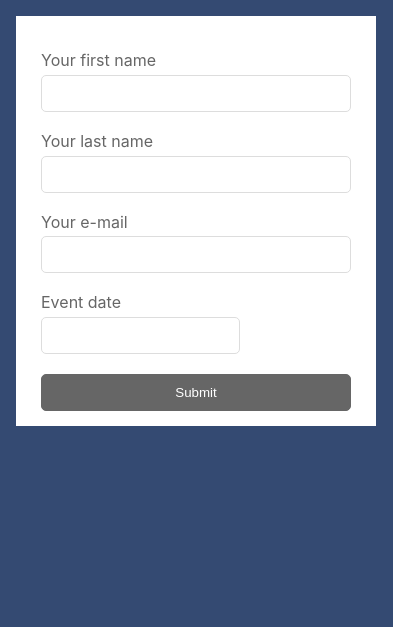
Event form end 2 end tests › All data entered - button enabled
Step 1. Type "test first name" into the field with id "firstName" → (196, 94), box [41,75,351,112]
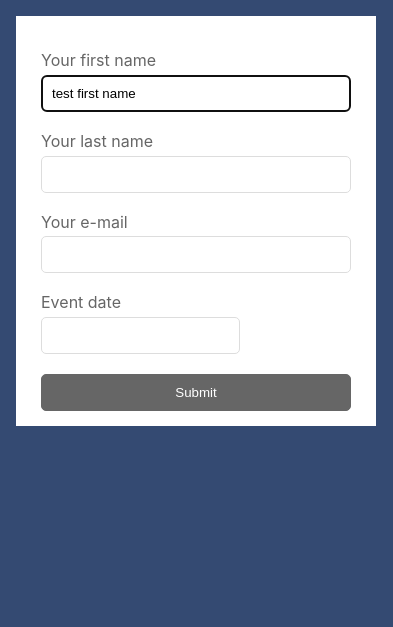
Step 2. Type "test last name" into the field with id "lastName" → (196, 175), box [41,156,351,193]
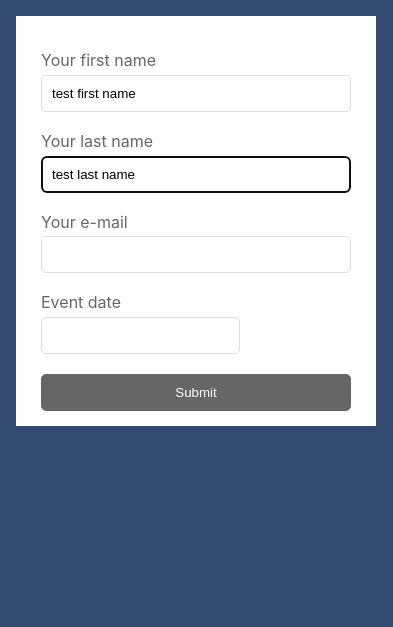
Step 3. Type "fake@email.com" into the field with id "email" → (196, 255), box [41,236,351,273]
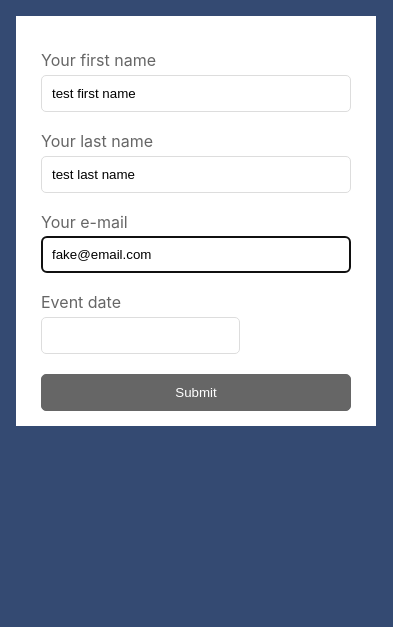
Step 4. Type "11/04/2022" into the field with id "eventDate" → (141, 336), box [41,317,240,354]
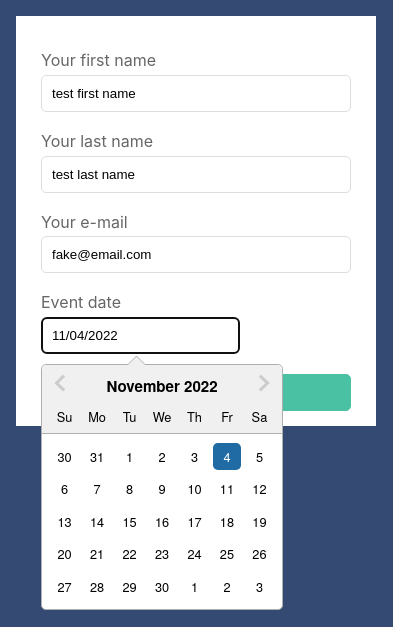
Expected: the button "Submit" is enabled, [41,374,351,411]
